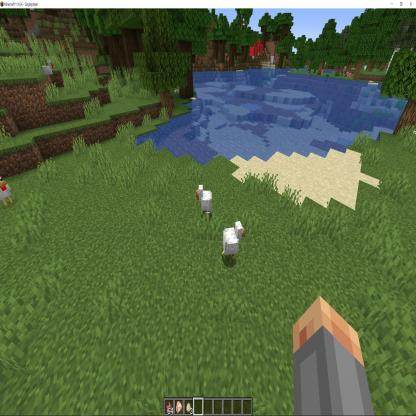minecraft-pigs: (176, 171, 230, 290), (0, 115, 13, 180), (64, 89, 80, 114)
